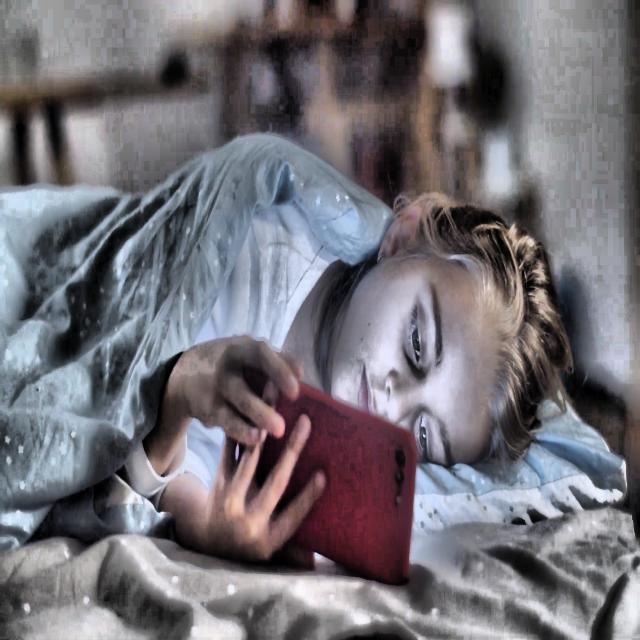Phone: (236, 377, 418, 590)
